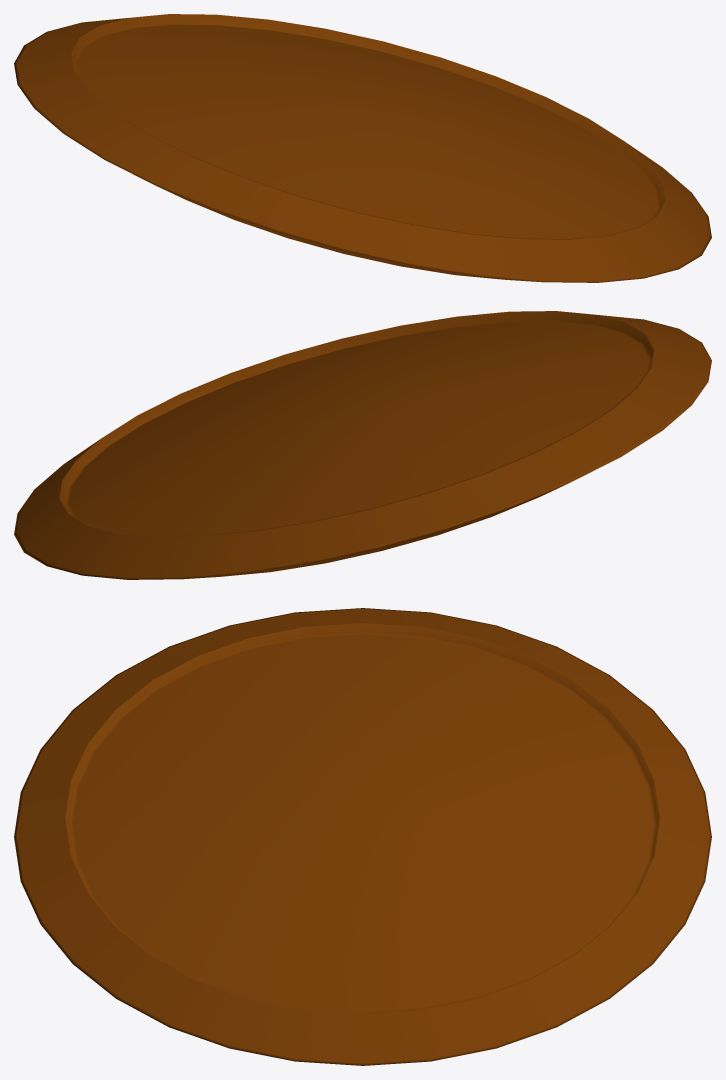
The model's file is item_shield.fbx.
3 views of the same model, one above another, from view 1: azimuth 30°, elevation 25°; view 2: azimuth 150°, elevation 25°; view 3: azimuth 270°, elevation 25° (orthographic). The views are drawn at different scales.
Visible parts, largest first — view 1: SM_mesh_wooden_shield; view 2: SM_mesh_wooden_shield; view 3: SM_mesh_wooden_shield.
Part boxes in pixels (box(x1,y1,x2,y2)): SM_mesh_wooden_shield: box(14, 14, 711, 282); SM_mesh_wooden_shield: box(14, 311, 711, 579); SM_mesh_wooden_shield: box(14, 608, 711, 1065).
Bounding box in the file's own units: 46.14 × 14.17 × 48.
